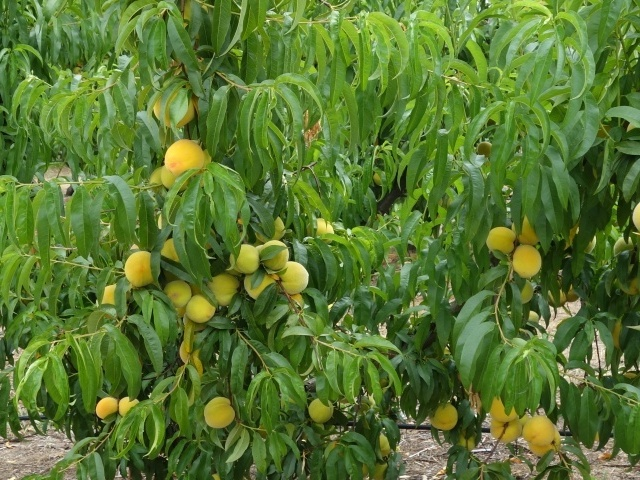peach: (149, 89, 199, 135), (161, 136, 210, 181), (122, 247, 164, 288), (274, 255, 313, 296), (200, 396, 242, 433), (512, 242, 548, 281), (488, 412, 526, 447), (523, 413, 559, 449), (208, 271, 244, 306), (483, 223, 519, 258), (487, 392, 524, 426), (511, 214, 546, 249), (226, 242, 263, 275), (254, 237, 291, 270), (185, 292, 219, 327), (161, 275, 197, 308), (238, 270, 276, 299), (430, 401, 461, 434), (305, 393, 334, 426), (90, 395, 121, 420), (113, 390, 143, 414), (472, 137, 495, 162)
